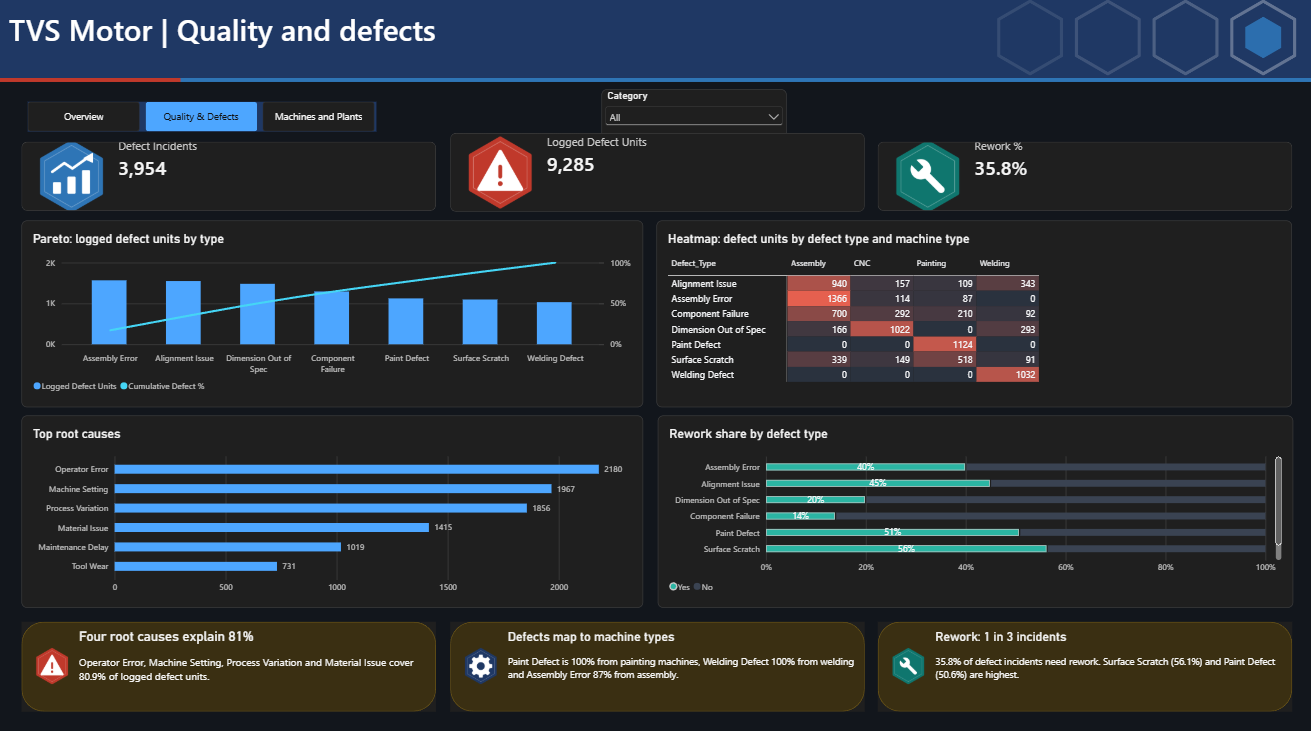

The page's visual inventory and layout, read from the dashboard file:
{"tool":"powerbi","page":{"name":"Quality & Defects","canvas":[1920,1080],"ordinal":1},"visuals":[{"type":"group","id":"g1","title":"Group 1","box":[0,0,1920.1,128.5],"z":0},{"type":"image","box":[0,0,1920.1,128.5],"z":0,"group":"g1"},{"type":"shape","box":[40,910,600,130],"z":0,"group":"g4"},{"type":"shape","box":[660,910,600,130],"z":0,"group":"g3"},{"type":"shape","box":[1280,910,600,130],"z":0,"group":"g2"},{"type":"pageNavigator","box":[48.9,157.4,504.9,43.4],"z":1000},{"type":"textbox","title":"Four root causes explain 81%","box":[124,920,504,110],"z":1000,"group":"g4"},{"type":"textbox","title":"Defects map to machine types","box":[744,920,504,110],"z":1000,"group":"g3"},{"type":"image","box":[1296,947,56,56],"z":1000,"group":"g2"},{"type":"slicer","fields":{"Values":["products.Category"]},"box":[879.5,139.3,267.8,79.6],"z":2000},{"type":"textbox","title":"Rework: 1 in 3 incidents","box":[1364,920,504,110],"z":2000,"group":"g2"},{"type":"image","box":[56,947,56,56],"z":2000,"group":"g4"},{"type":"image","box":[676,947,56,56],"z":2000,"group":"g3"},{"type":"cardVisual","fields":{"Data":["Calendar.Defect Incidents Text"]},"box":[40,215,600,100],"z":3000},{"type":"cardVisual","fields":{"Data":["Calendar.Rework %"]},"box":[1280,215,600,100],"z":4000},{"type":"cardVisual","fields":{"Data":["Calendar.Logged Defect Units Text"]},"box":[660,202,600,114],"z":5000},{"type":"lineClusteredColumnComboChart","title":"Pareto: logged defect units by type","fields":{"Category":["defects.Defect_Type"],"Y":["Calendar.Logged Defect Units"],"Y2":["Calendar.Cumulative Defect %"]},"box":[40,330,900,270],"z":6000},{"type":"clusteredBarChart","title":"Top root causes","fields":{"Category":["defects.Root_Cause"],"Y":["Calendar.Logged Defect Units"]},"box":[40,612,900,278],"z":7000},{"type":"textbox","box":[21.7,22.8,1140,57.1],"z":7001,"group":"g1"},{"type":"pivotTable","title":"Heatmap: defect units by defect type and machine type","fields":{"Columns":["machines.Machine_Type"],"Rows":["defects.Defect_Type"],"Values":["Calendar.Heatmap Units"]},"box":[960,330,920,270],"z":8000},{"type":"hundredPercentStackedBarChart","title":"Rework share by defect type","fields":{"Category":["defects.Defect_Type"],"Series":["defects.Rework_Required"],"Y":["Calendar.Defect Incidents"]},"box":[960.9,612,920,278],"z":9000},{"type":"group","id":"g2","title":"Group 2","box":[1280,910,600,130],"z":10000},{"type":"group","id":"g3","title":"Group 3","box":[660,910,600,130],"z":11000},{"type":"group","id":"g4","title":"Group 4","box":[40,910,600,130],"z":12000}]}

Visuals, with their boxes in screenshot pixels (x1, y1, x2, y2), scaled from the page's 1920x1080 canvas onto the 1311x731 screenshot:
"Group 1" group: select_region(0, 0, 1310, 87)
image: select_region(0, 0, 1310, 87)
shape: select_region(27, 616, 437, 704)
shape: select_region(451, 616, 860, 704)
shape: select_region(874, 616, 1284, 704)
pageNavigator: select_region(33, 107, 378, 136)
"Four root causes explain 81%" textbox: select_region(85, 623, 429, 697)
"Defects map to machine types" textbox: select_region(508, 623, 852, 697)
image: select_region(885, 641, 923, 679)
slicer - products.Category: select_region(601, 94, 783, 148)
"Rework: 1 in 3 incidents" textbox: select_region(931, 623, 1275, 697)
image: select_region(38, 641, 76, 679)
image: select_region(462, 641, 500, 679)
cardVisual - Calendar.Defect Incidents Text: select_region(27, 146, 437, 213)
cardVisual - Calendar.Rework %: select_region(874, 146, 1284, 213)
cardVisual - Calendar.Logged Defect Units Text: select_region(451, 137, 860, 214)
"Pareto: logged defect units by type" lineClusteredColumnComboChart: select_region(27, 223, 642, 406)
"Top root causes" clusteredBarChart: select_region(27, 414, 642, 602)
textbox: select_region(15, 15, 793, 54)
"Heatmap: defect units by defect type and machine type" pivotTable: select_region(656, 223, 1284, 406)
"Rework share by defect type" hundredPercentStackedBarChart: select_region(656, 414, 1284, 602)
"Group 2" group: select_region(874, 616, 1284, 704)
"Group 3" group: select_region(451, 616, 860, 704)
"Group 4" group: select_region(27, 616, 437, 704)
